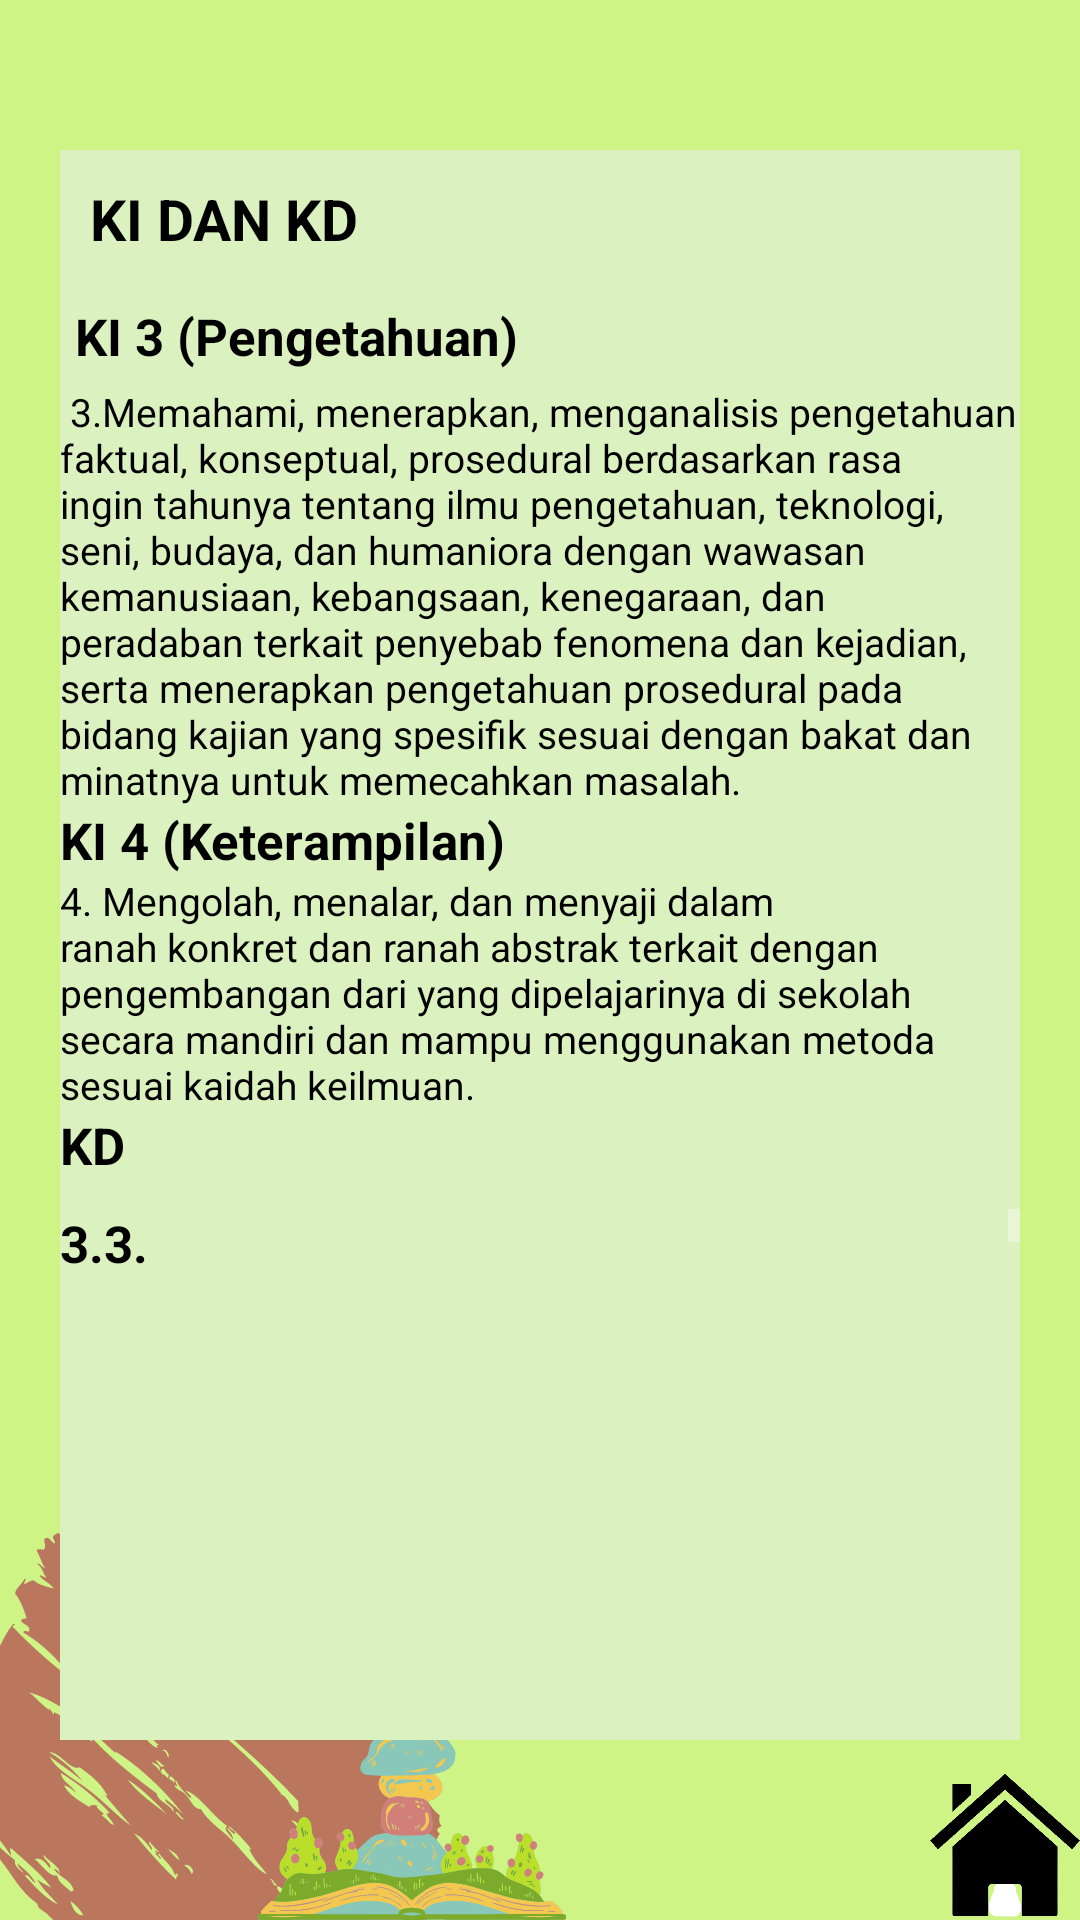

Icon bounding boxes for this 1080 x 1920 phone screenshot, format (x1, y1, x2, y2):
rumah: (930, 1774, 1080, 1917)
